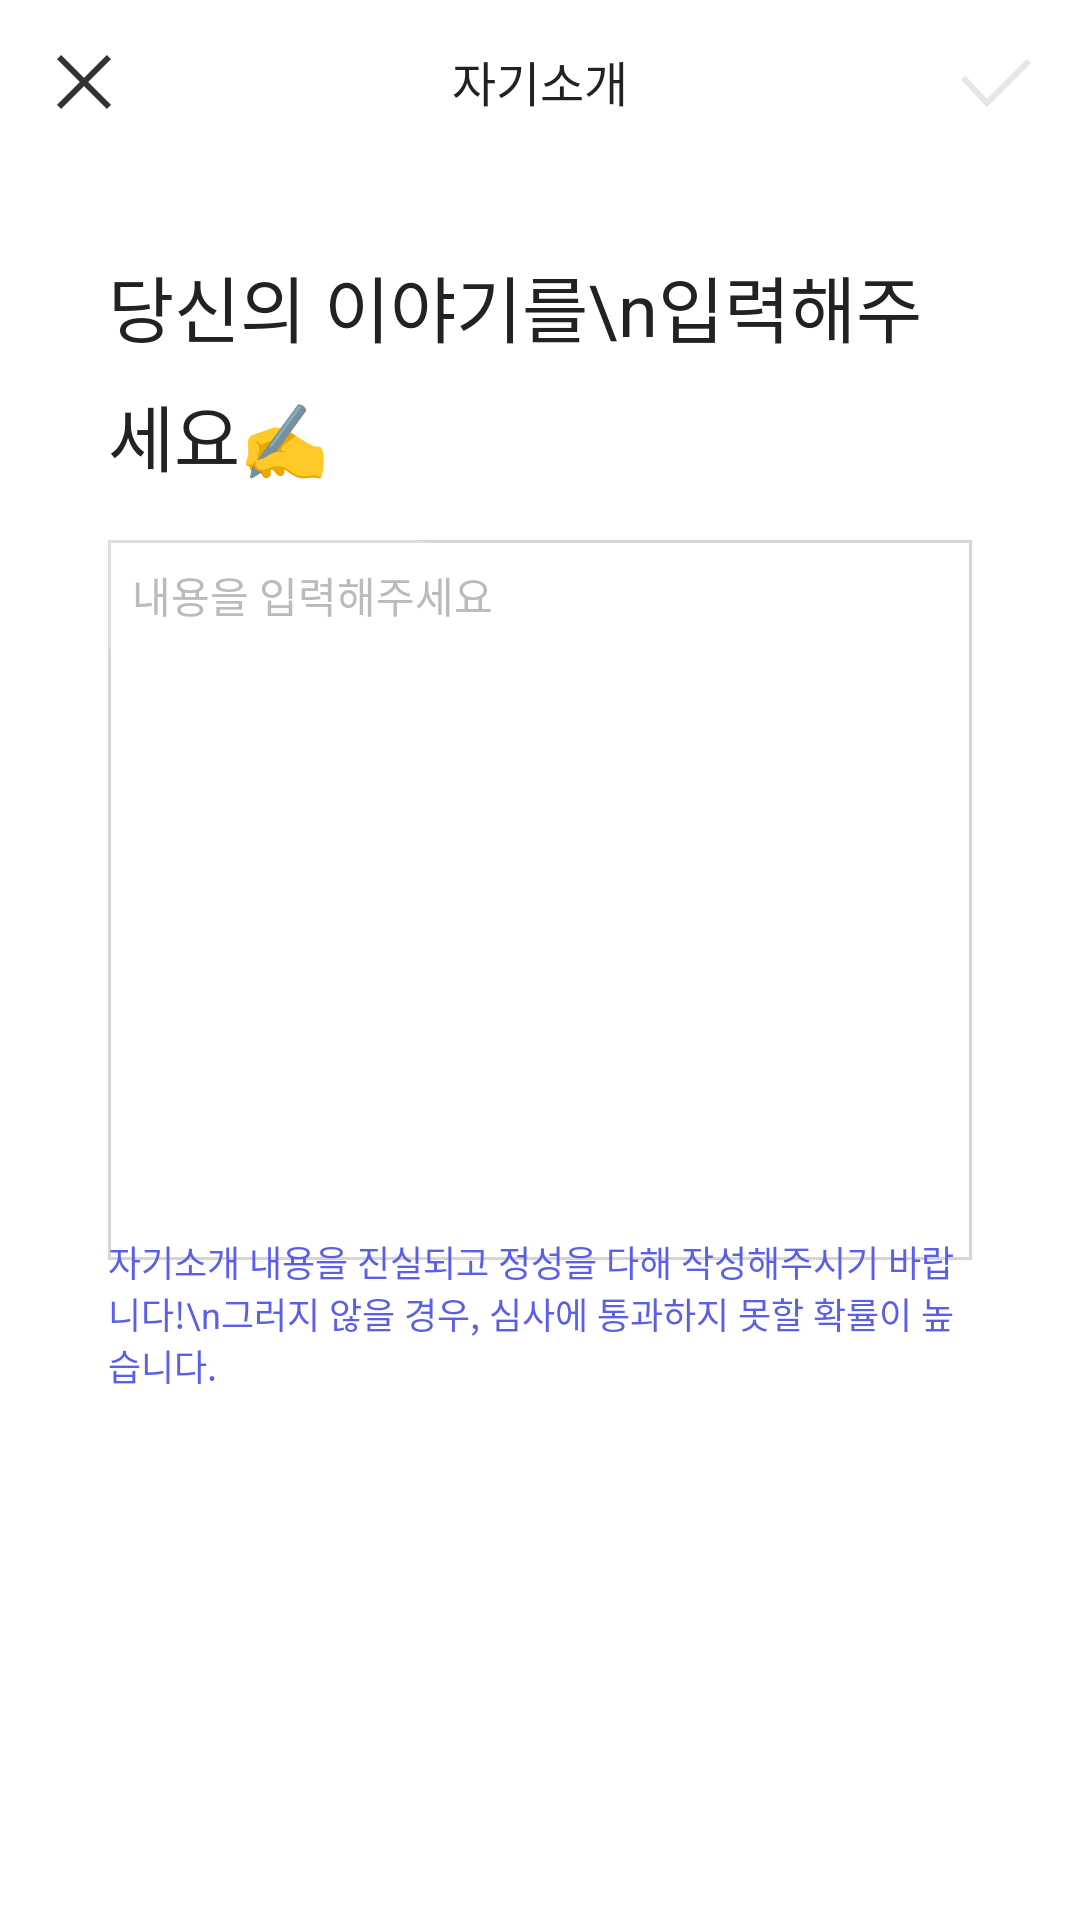

Where icons sit on this 1080x1920 app screen, as (x1, y1, x2, y2):
close: (57, 55, 111, 109)
save: (962, 60, 1030, 106)
